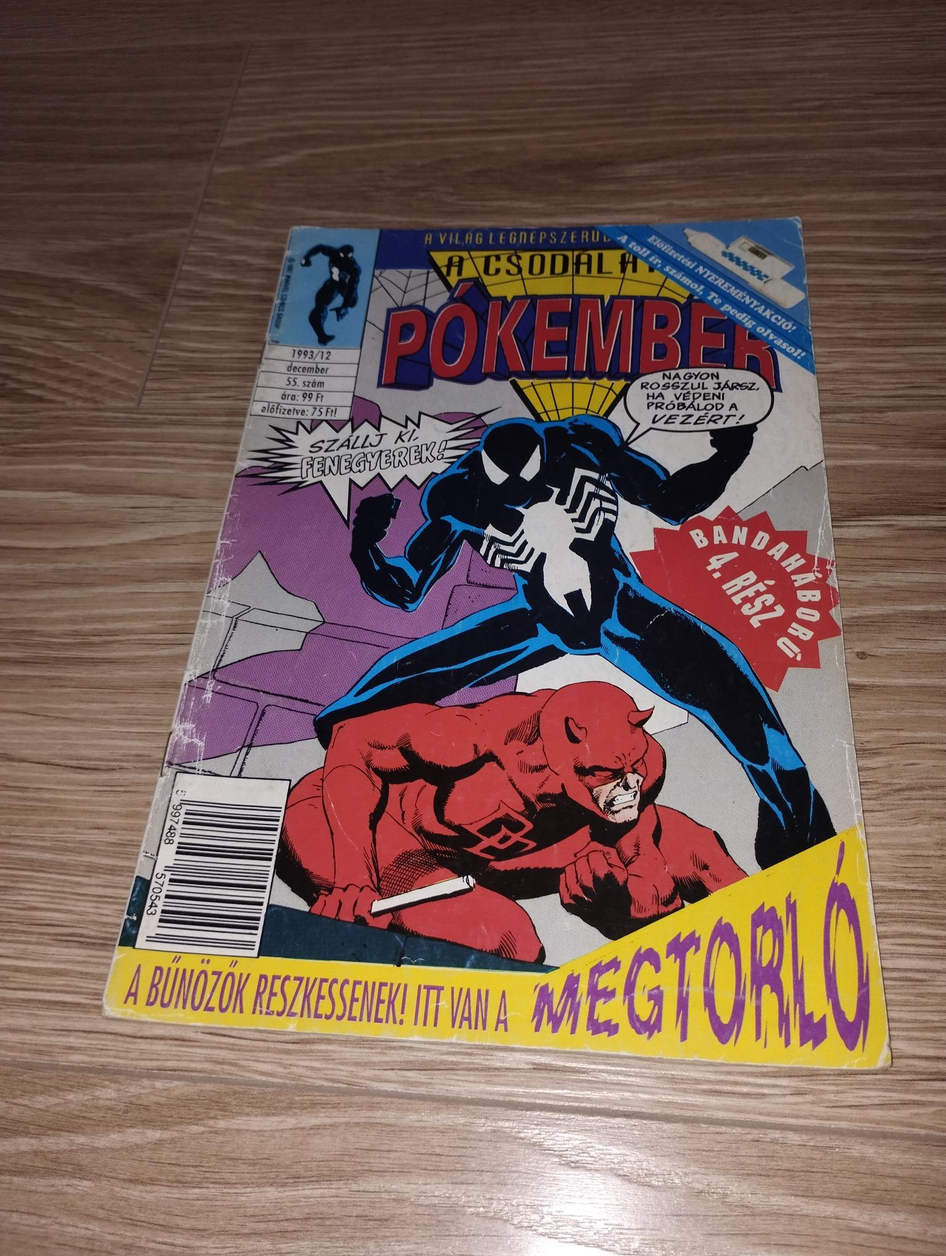comic: (105, 182, 936, 1070)
